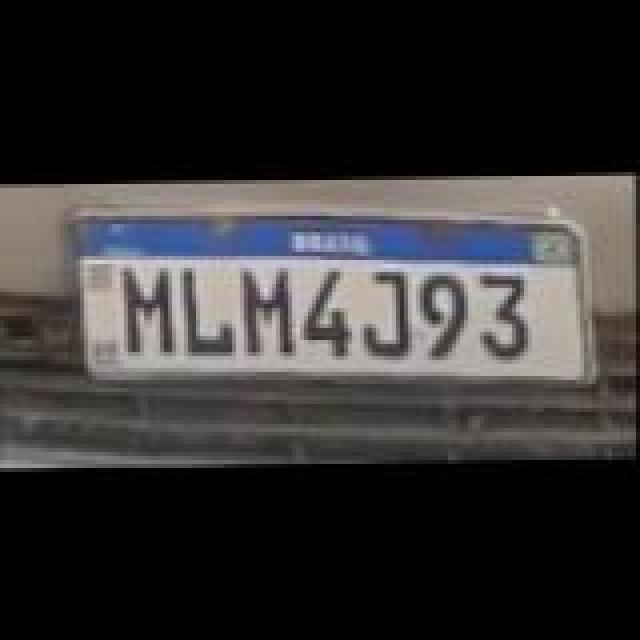3: (480, 268, 532, 356)
4: (306, 268, 354, 356)
9: (422, 270, 470, 358)
J: (364, 266, 416, 354)
L: (188, 266, 240, 354)
M: (126, 262, 182, 350), (246, 264, 294, 352)
